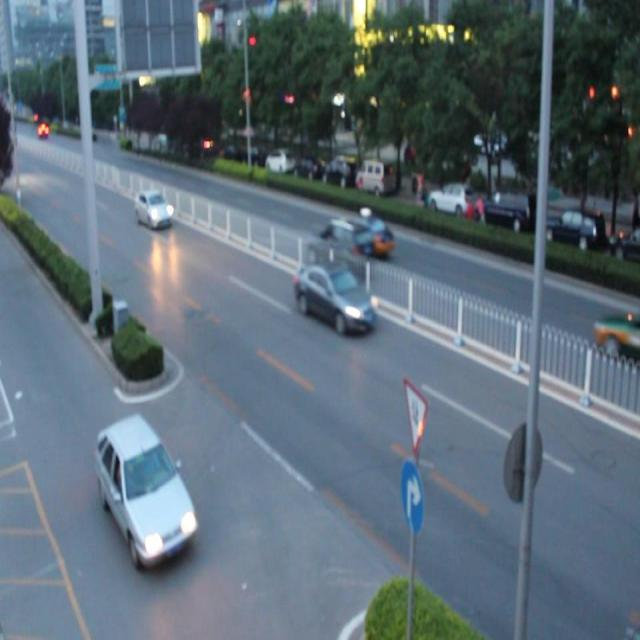car: (93, 414, 198, 562), (295, 258, 375, 336), (312, 222, 370, 275), (593, 299, 640, 360), (344, 210, 393, 257), (134, 190, 174, 228)
